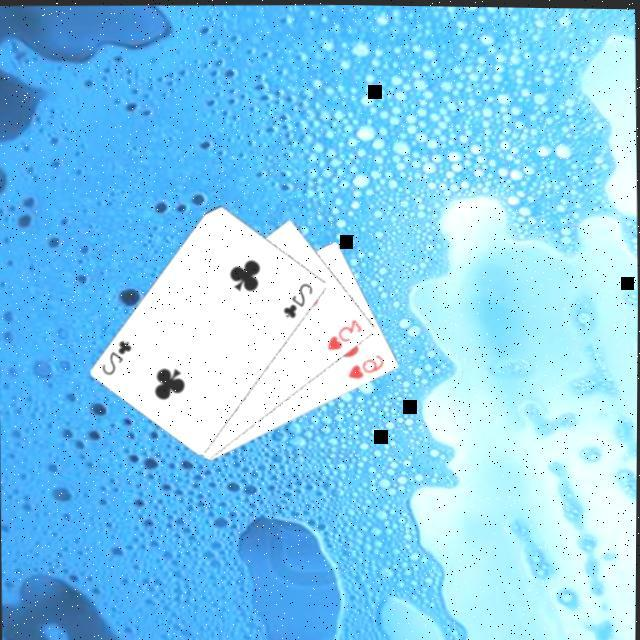2C: (280, 280, 318, 322), (100, 336, 136, 379)
3H: (324, 315, 367, 355)
6H: (346, 351, 389, 383)
